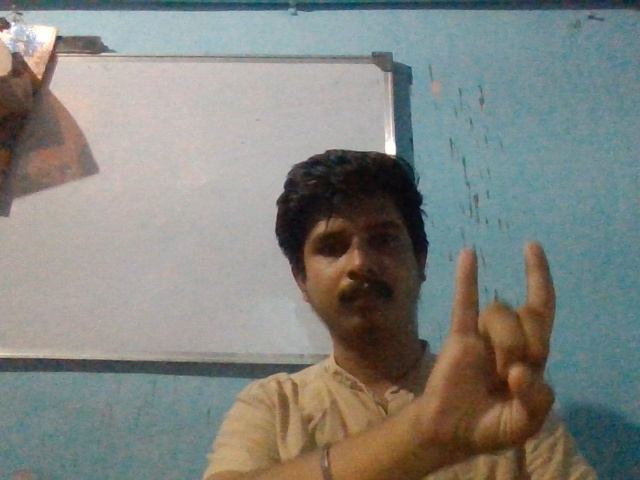Apana: (427, 244, 565, 448)
